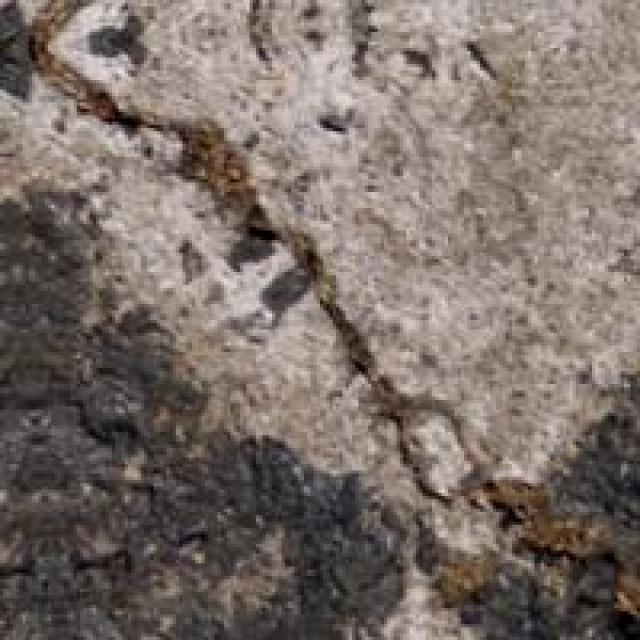crack: (48, 50, 476, 476)
